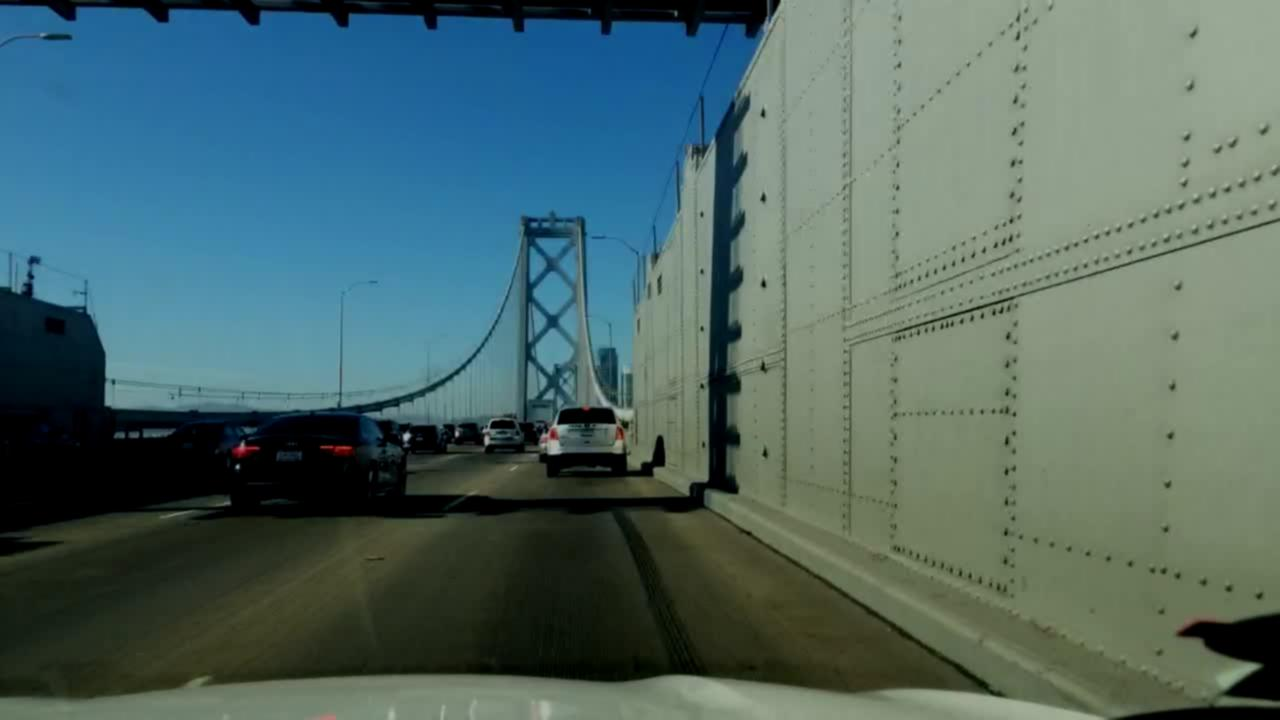Audi: (280, 438, 303, 450)
